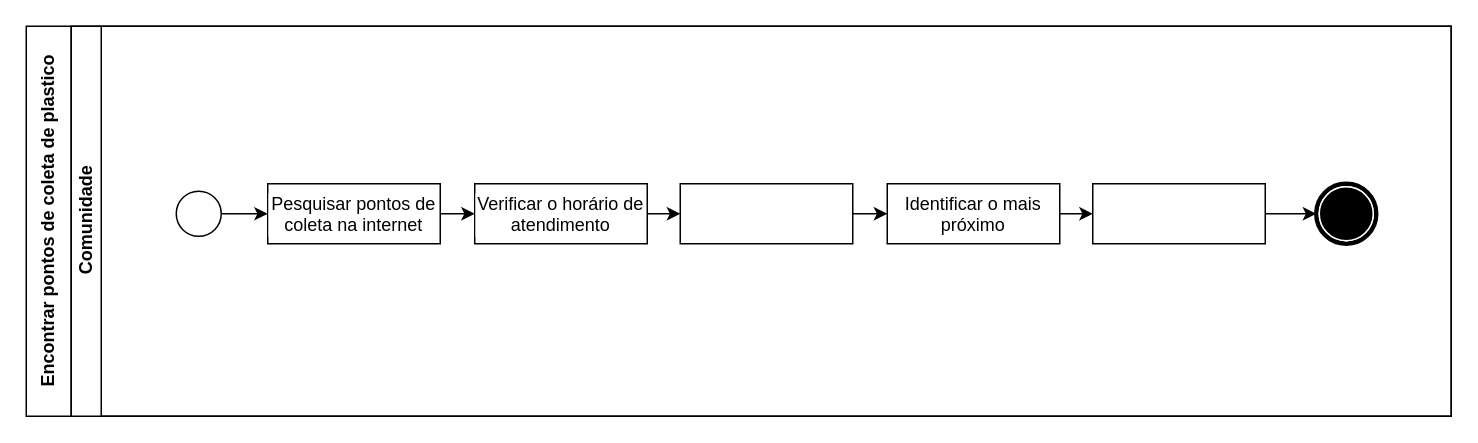
Some shapes in this 1478 by 443 pixel diagram are drawn without their labels. Each missing label, with the box of its shape:
Anotar o endereço: (1091, 182, 1265, 244)
Verificar a localização: (679, 182, 853, 244)
